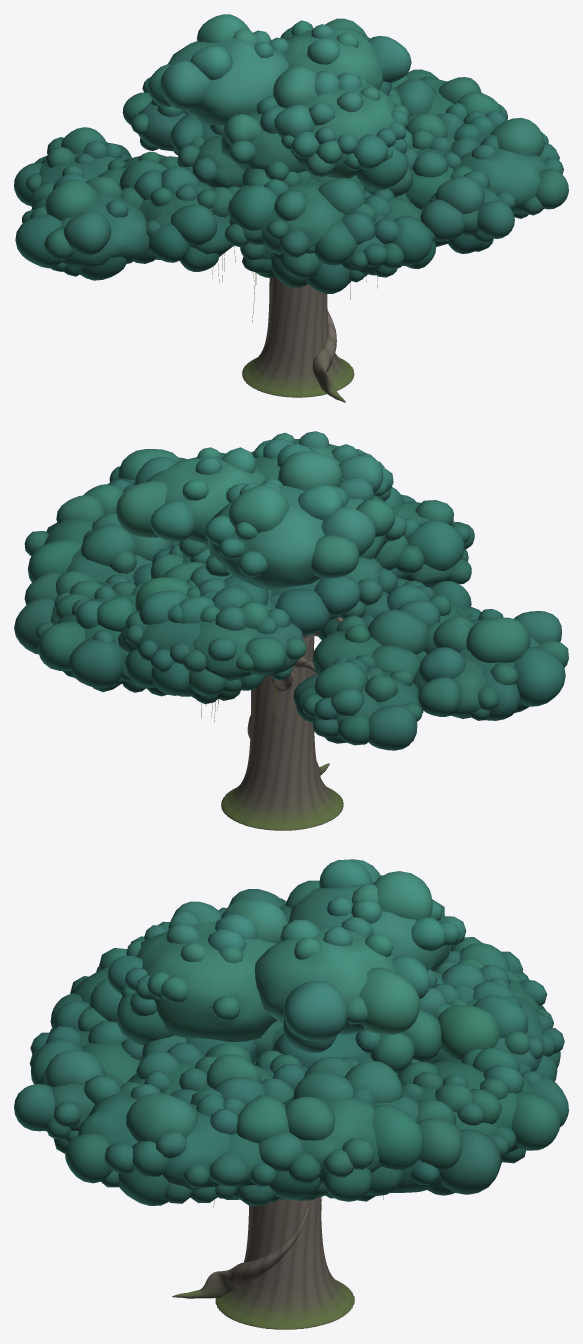
Rendered from arvore-mae-liso.glb.
3 views of the same model, one above another, from view 1: azimuth 30°, elevation 25°; view 2: azimuth 150°, elevation 25°; view 3: azimuth 270°, elevation 25° (orthographic). The views are drawn at different scales.
Visible parts, largest first — view 1: copa_mae, TRONCO_MAE_RAIZ; view 2: copa_mae, TRONCO_MAE_RAIZ; view 3: copa_mae, TRONCO_MAE_RAIZ.
Part boxes in pixels (x1,y1,x2,y2): copa_mae: [14, 14, 568, 293]; TRONCO_MAE_RAIZ: [212, 246, 377, 402]; copa_mae: [14, 431, 568, 750]; TRONCO_MAE_RAIZ: [201, 617, 343, 830]; copa_mae: [14, 859, 568, 1205]; TRONCO_MAE_RAIZ: [172, 1195, 383, 1329].
Bounding box in the file's own units: 71.62 × 47.26 × 57.88.
